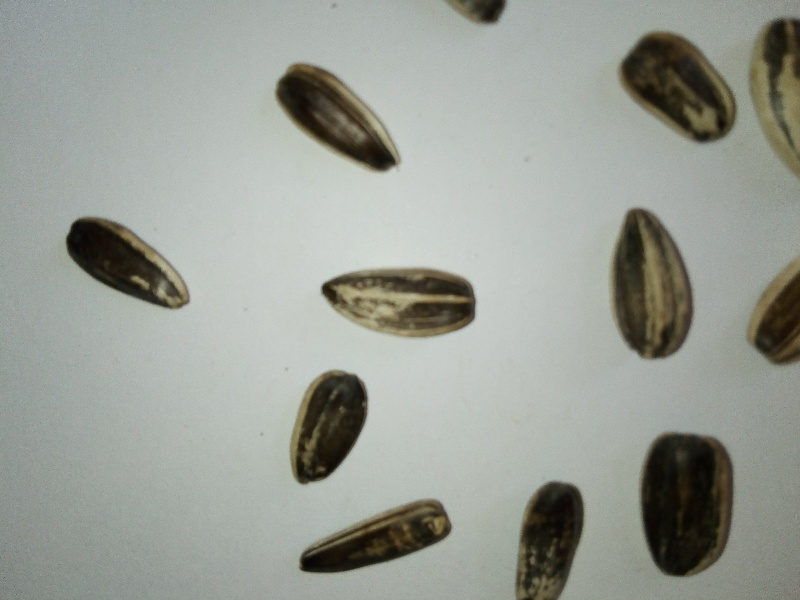girasol: (632, 421, 747, 591), (609, 22, 741, 155), (604, 200, 708, 368), (268, 57, 412, 178), (287, 483, 460, 581), (311, 259, 482, 344), (62, 209, 199, 314), (283, 362, 374, 489)
